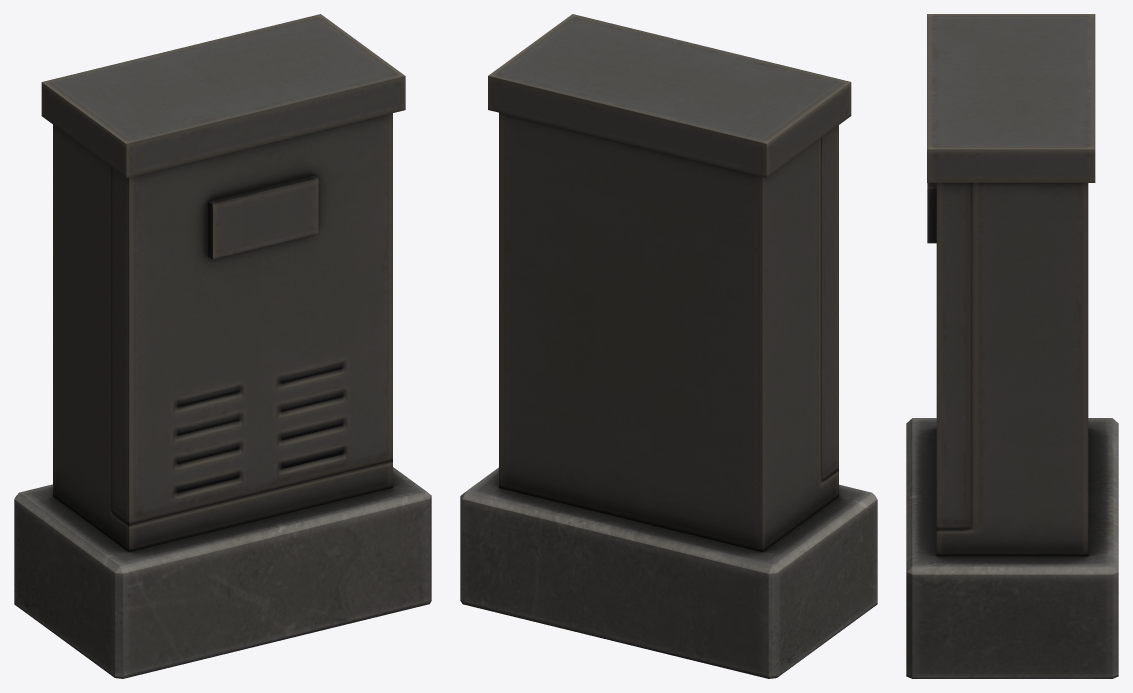
Rendered from powerbox_02.fbx.
3 views of the same model, side by side, from view 1: azimuth 30°, elevation 25°; view 2: azimuth 150°, elevation 25°; view 3: azimuth 270°, elevation 25° (orthographic).
Parts seen in each view (by area): view 1: Box006; view 2: Box006; view 3: Box006.
Boxes of the visible parts, box(x1,y1,x2,y2) form: Box006: box(14, 14, 431, 678); Box006: box(460, 14, 877, 678); Box006: box(906, 14, 1118, 678).
Size of the model in its own units: 305 by 482 by 178.
